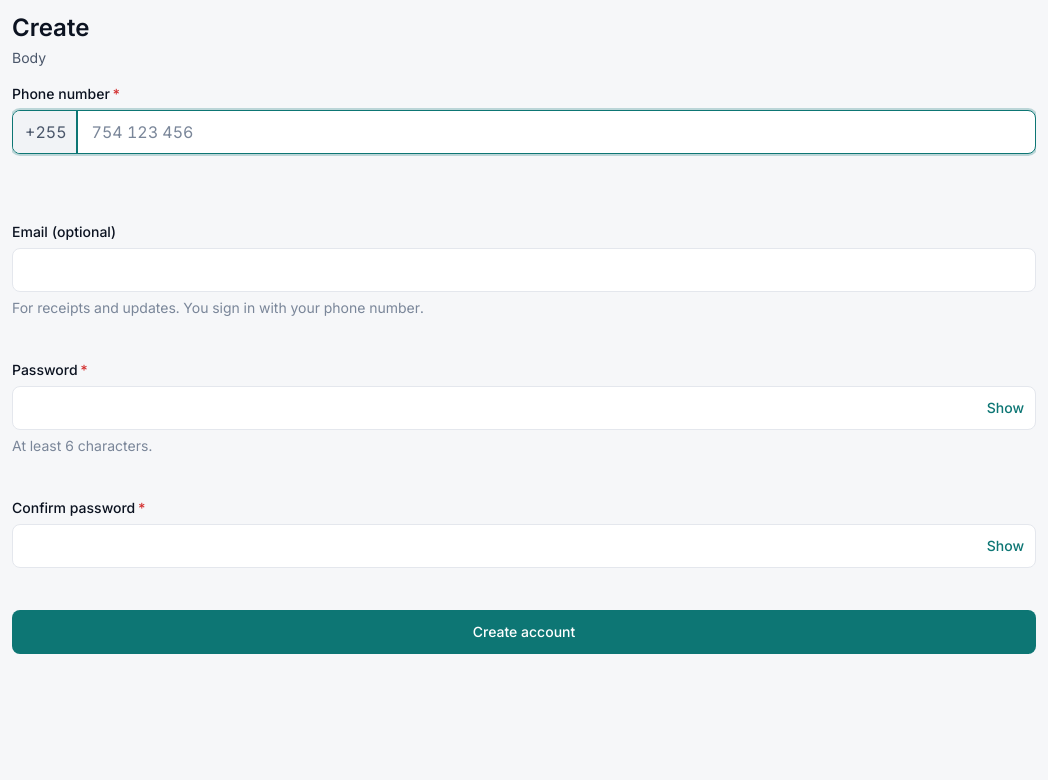
Test case: <PhoneSignup> › tells an existing user to sign in instead
The width and height of the screenshot is (1048, 780).
In the field labelled "Phone number*": (557, 132) [80, 111, 1035, 153], type "763594105"
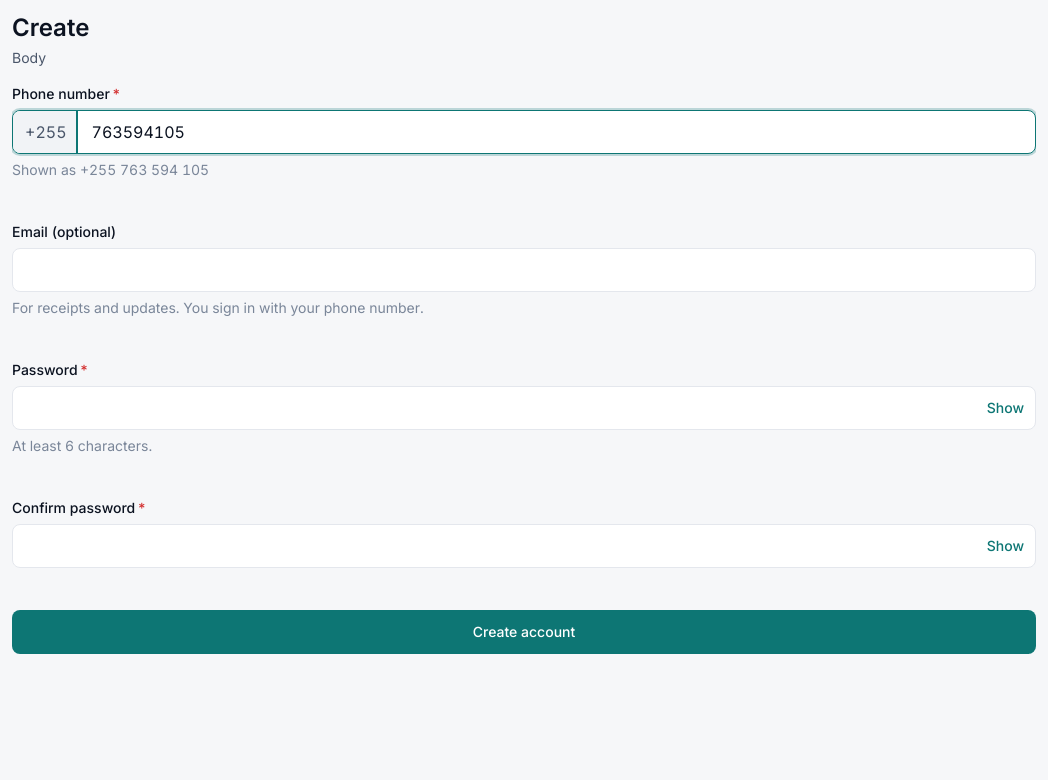
In the password field labelled "Password*": (524, 408) [12, 386, 1036, 430], type "siri123"
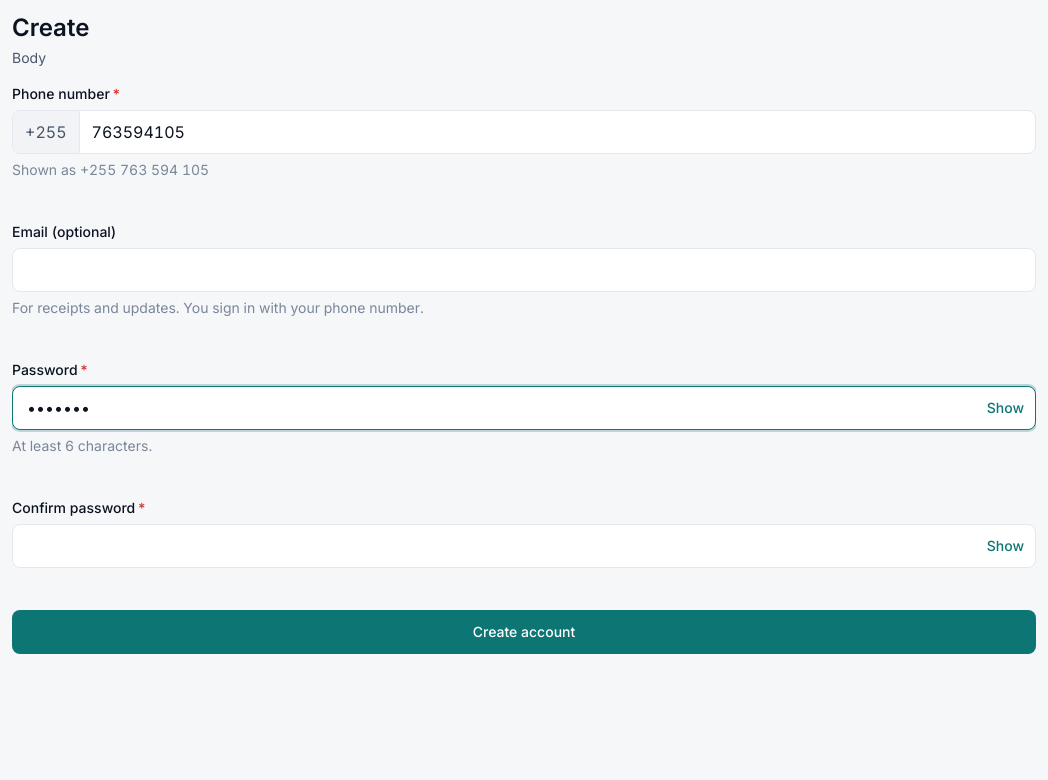
In the password field labelled "Confirm password*": (524, 546) [12, 524, 1036, 568], type "siri123"
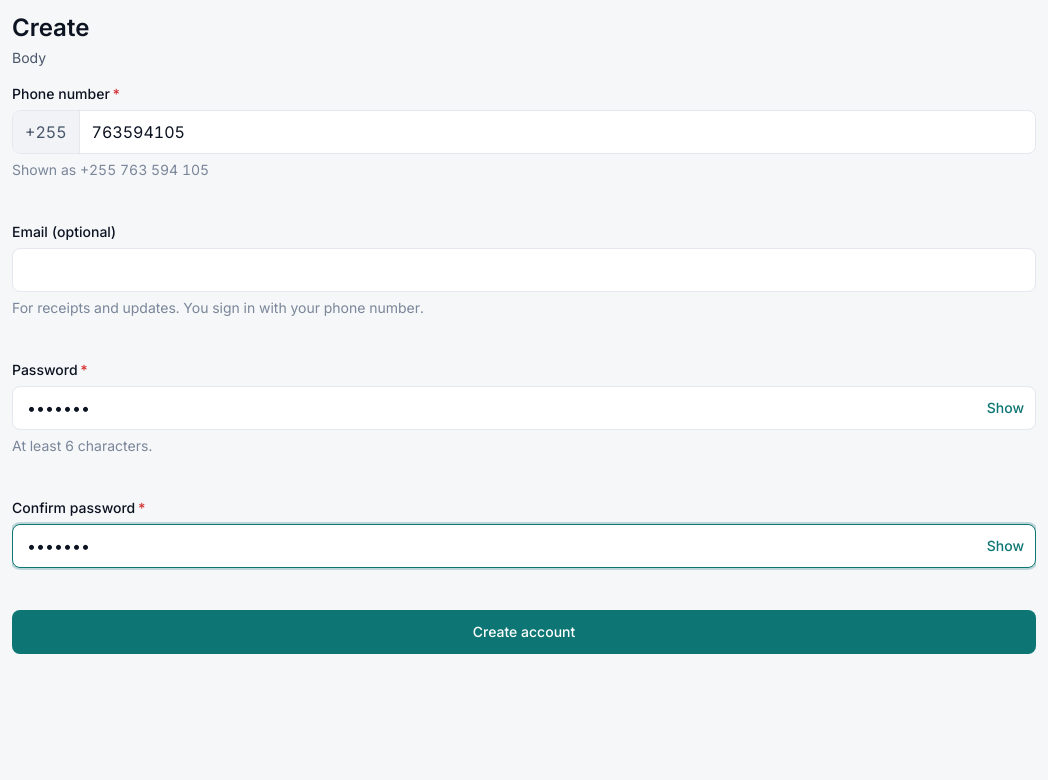
Click the button "Create account": (524, 632) [12, 610, 1036, 654]
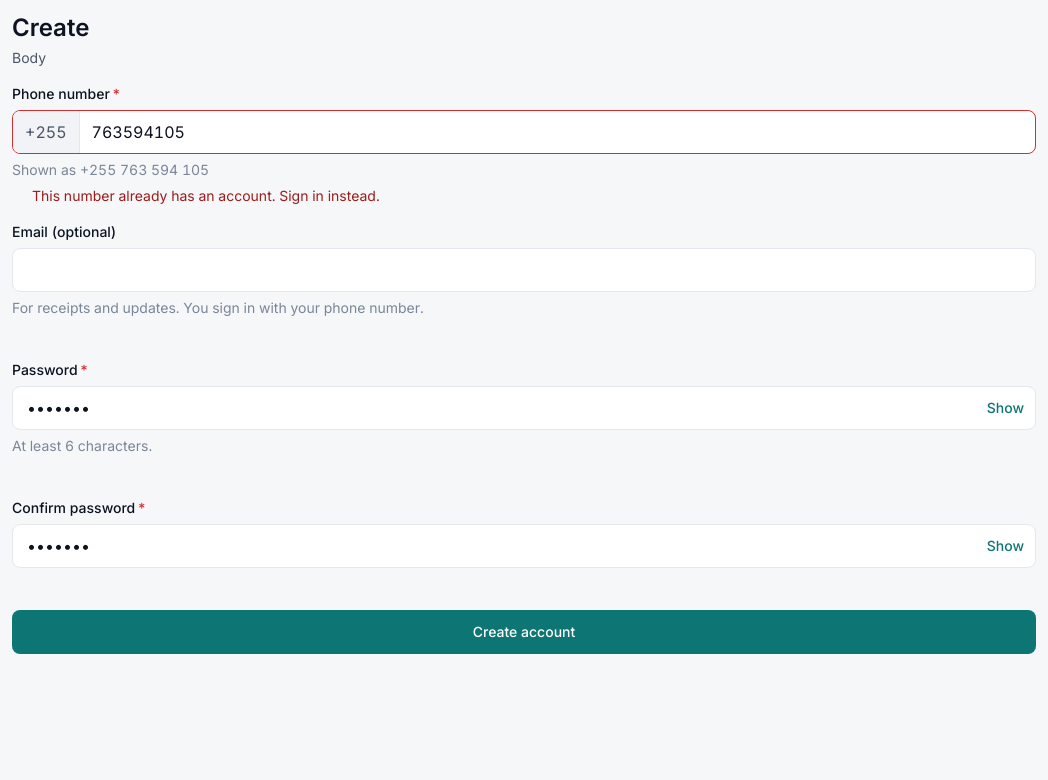
Expected: the text "This number already has an account. Sign in instead." is shown, [32, 186, 380, 206]
